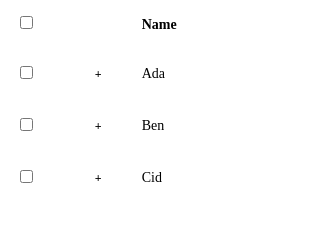
Test: Table › supports row selection and expandable rows
Click the checkbox named "Select row 1" at {"x": 26, "y": 72}, box [20, 66, 33, 78]
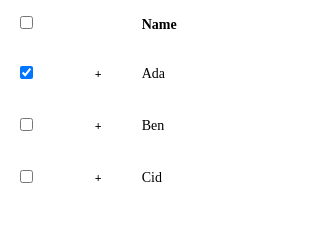
Click the button named "Expand row 1" at {"x": 98, "y": 74}, box [87, 60, 110, 88]
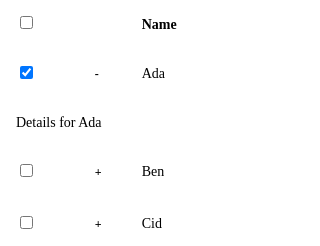
Expected: the text "Details for Ada" is shown, [16, 115, 102, 130]
